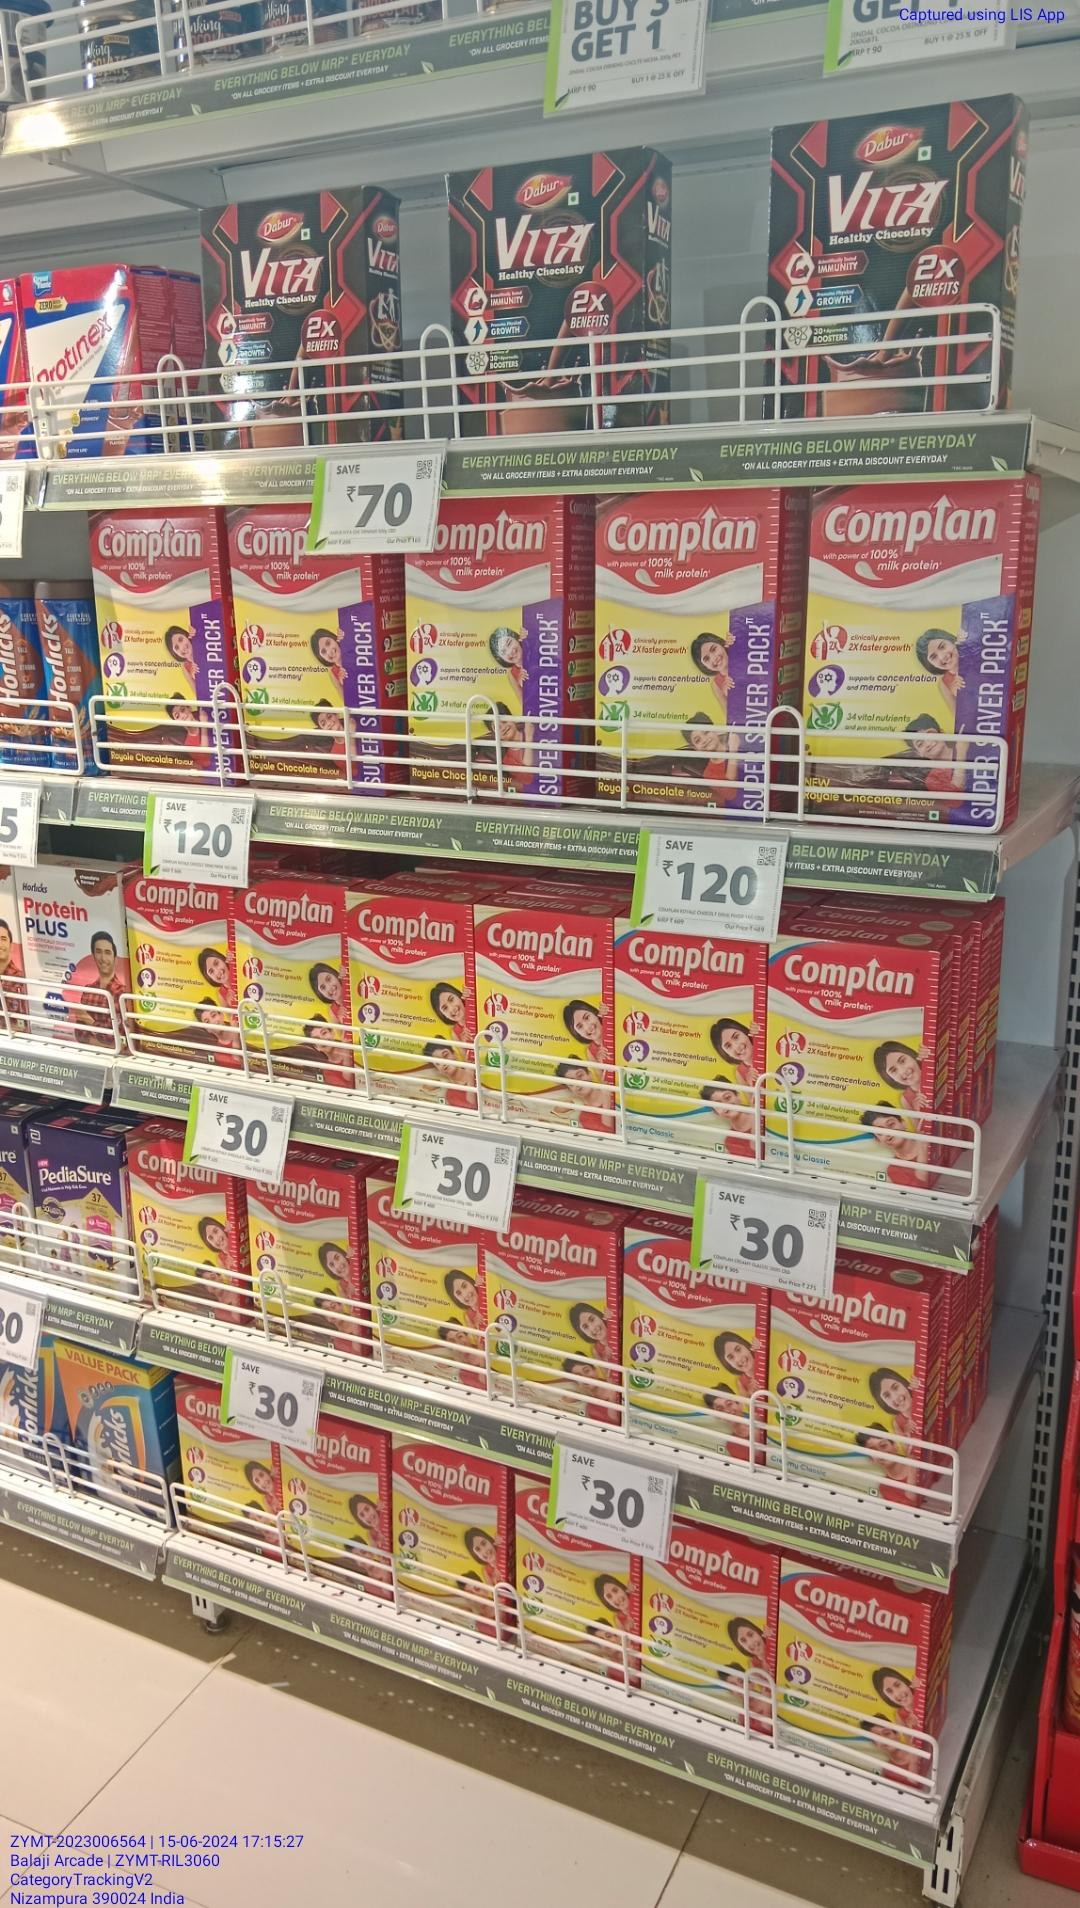COMPLAN_CHOCOLATE_1_KG_PACK: (810, 484, 1007, 830), (596, 493, 769, 816), (408, 502, 562, 807), (233, 505, 380, 799), (92, 507, 228, 782)
COMPLAN_CREAMY_CLASSIC_500_G_PACK: (768, 941, 933, 1183), (769, 1280, 921, 1510), (613, 924, 758, 1161), (627, 1225, 760, 1464), (779, 1563, 920, 1786), (638, 1531, 776, 1736)
HORLICK_CHOCOLATE_500_G_JAR: (39, 577, 93, 776), (0, 573, 37, 772)
HORLICK_CLASSIC_MALT_500_G_PACK: (59, 1346, 156, 1524)
PEDIASURE_VANILLA_500_G_PACK: (33, 1123, 123, 1291)
